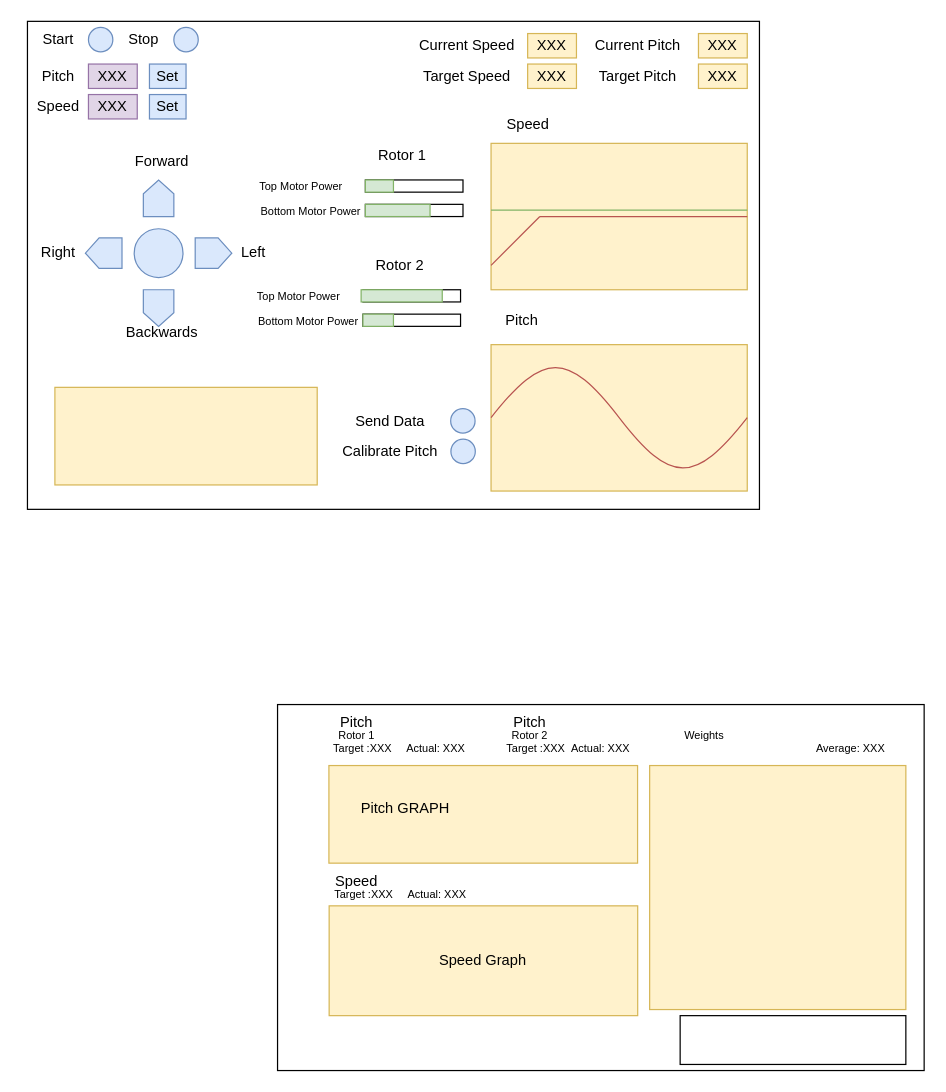
The diagram is 946 pixels wide and 1092 high, and some of its shapes have lost their labels. The box of each missing label's shape, as (x1, y1, x2, y2) in pixels:
Hover: (133, 228, 183, 278)
USART log: (679, 1014, 906, 1064)
Weights graph: (648, 764, 906, 1010)
